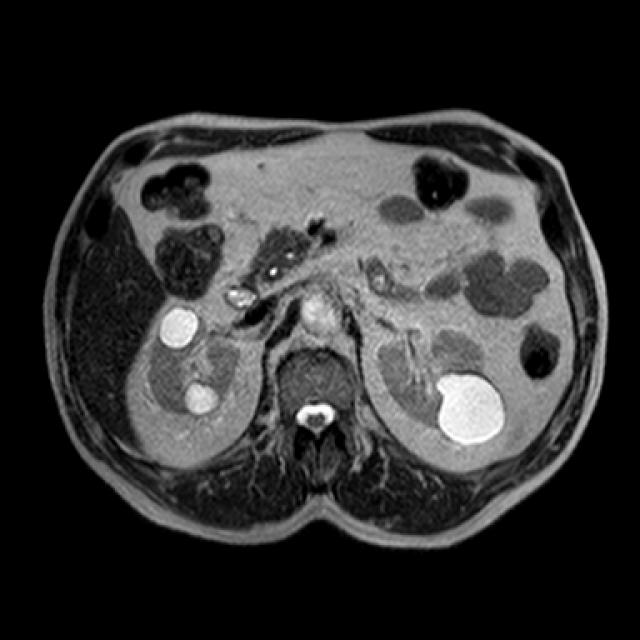sag: (145, 303, 243, 418)
sol: (372, 325, 508, 447)
